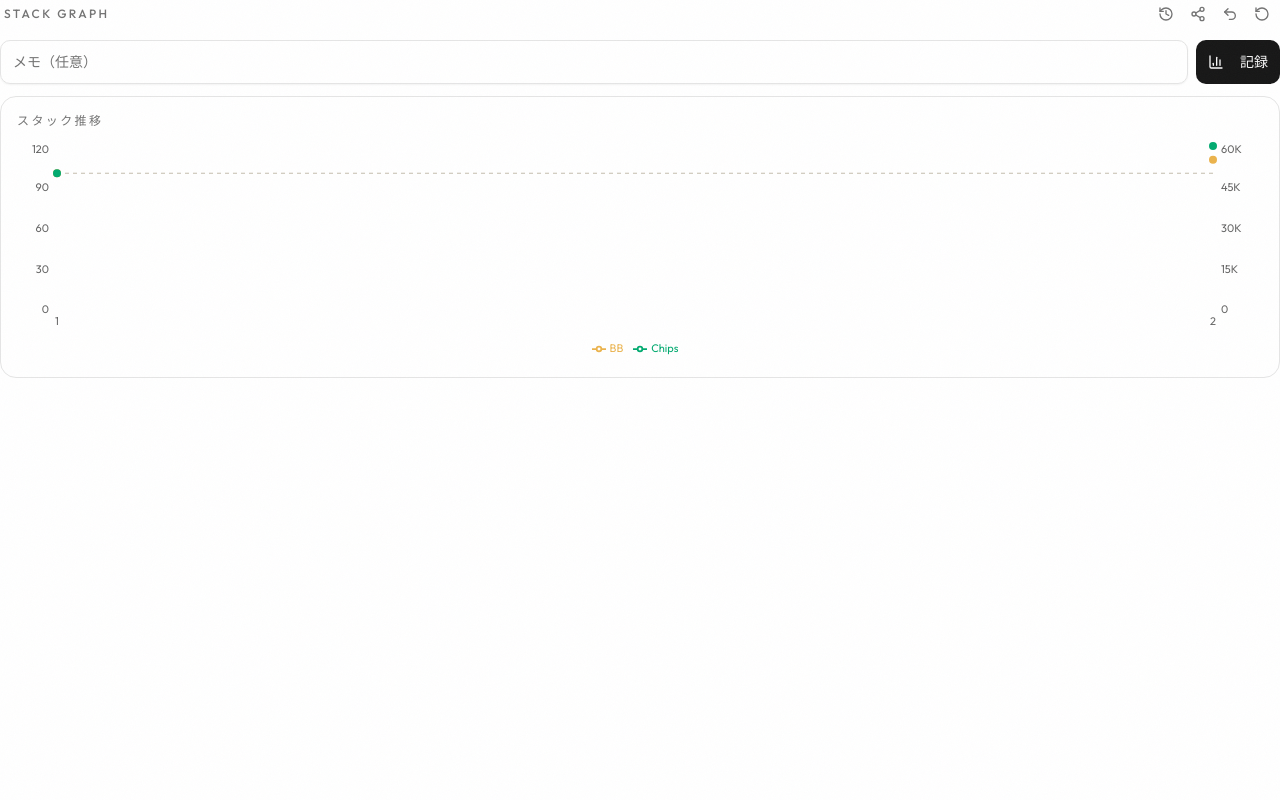
Test: StackRecordSection リセットダイアログ › ダイアログに「保存せずリセット」ボタンがある
The width and height of the screenshot is (1280, 800).
Click the button named "新しいセッションを開始" at (1262, 14), box [1248,0,1276,28]
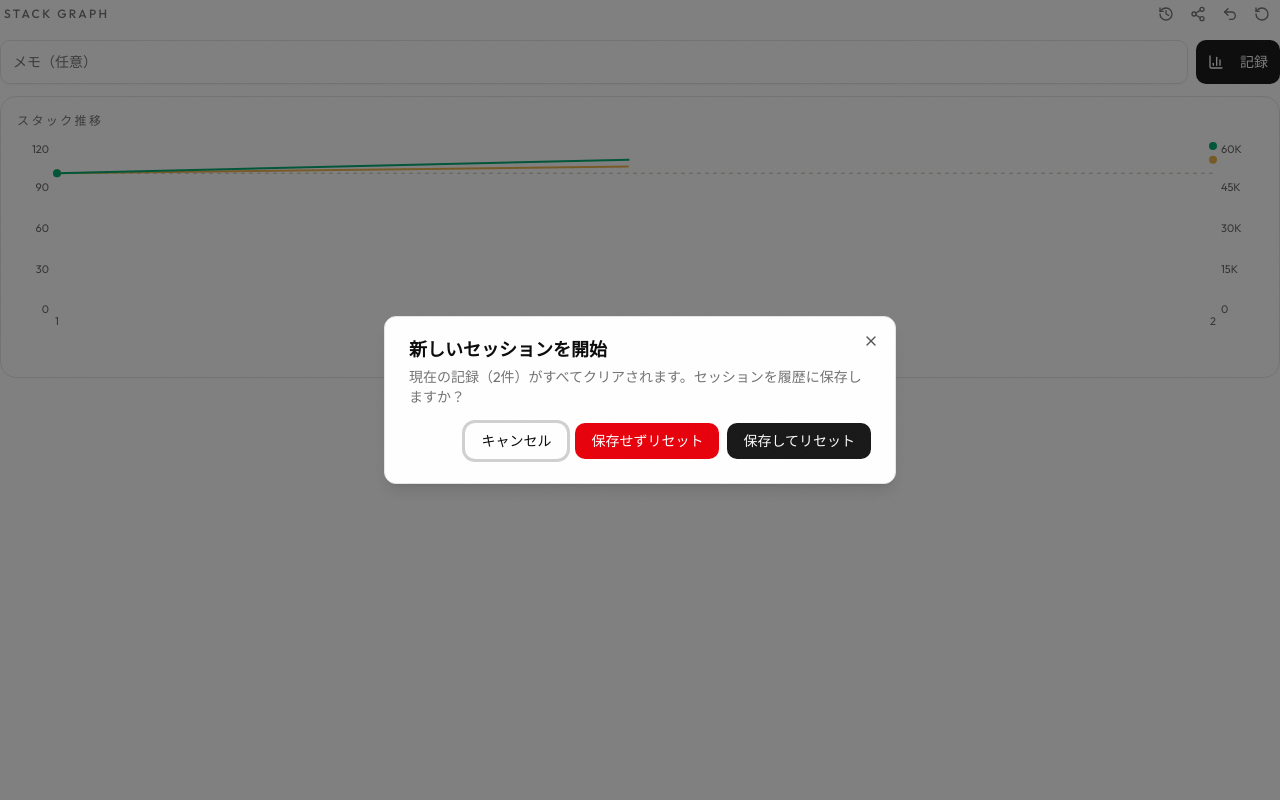
Result: the button "保存せずリセット" is shown at [575,423,719,459]
